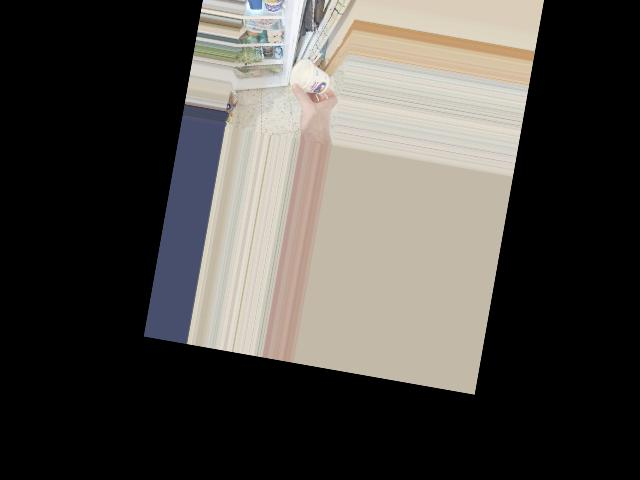cotage: (295, 60, 331, 101)
